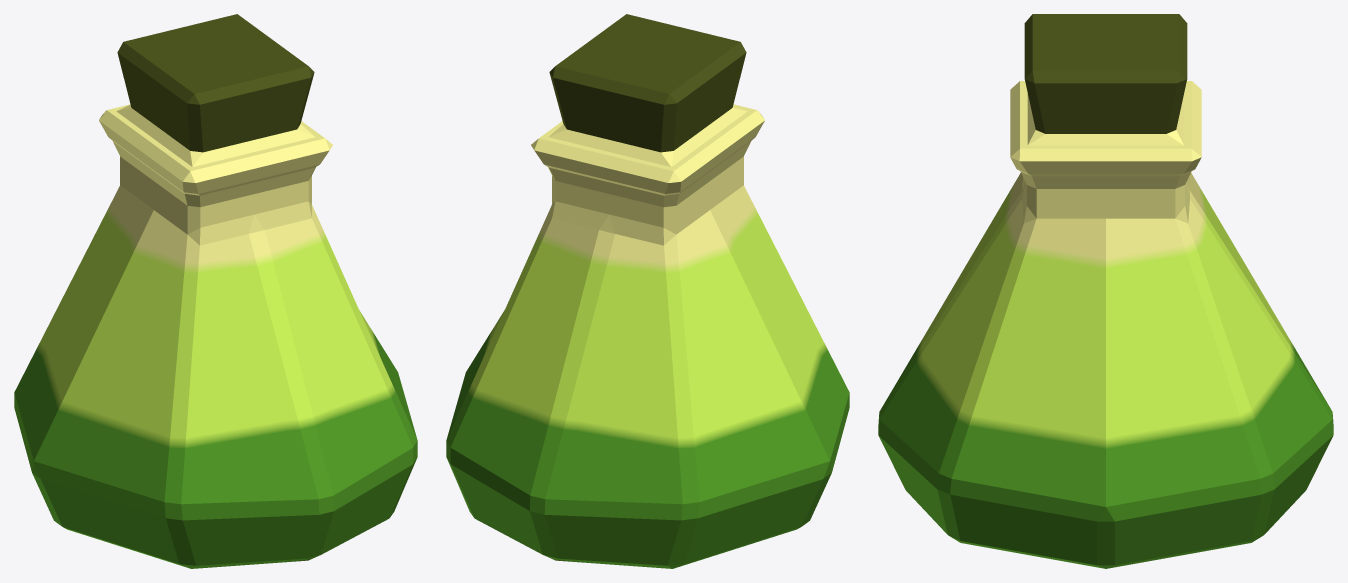
The model's file is Potion1.fbx.
3 renders of one model, left to right at view 1: azimuth 30°, elevation 25°; view 2: azimuth 150°, elevation 25°; view 3: azimuth 270°, elevation 25°, orthographic. The views are drawn at different scales.
Parts seen in each view (by area): view 1: Potion; view 2: Potion; view 3: Potion.
Part boxes in pixels (<box>): Potion: <box>14,14,417,568</box>; Potion: <box>446,14,849,568</box>; Potion: <box>878,14,1333,568</box>.
Bounding box in the file's own units: 302 × 349 × 318.
